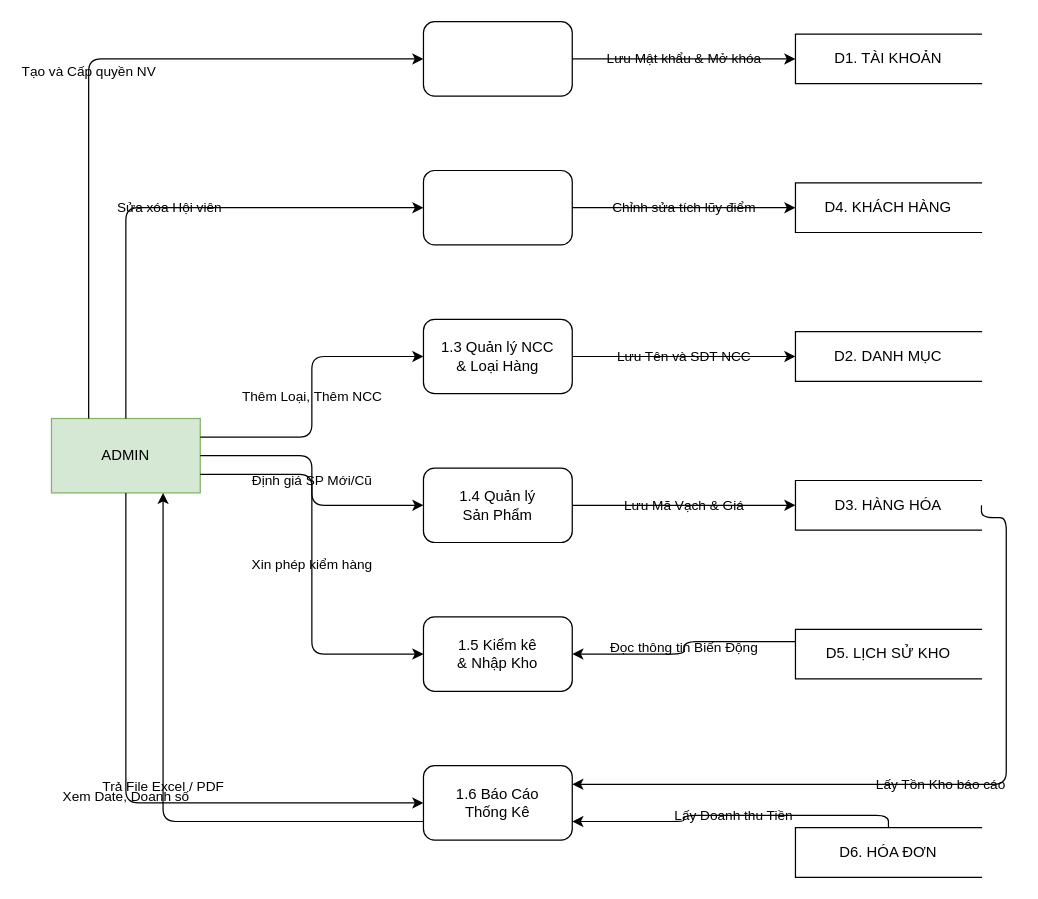
Image size: 1038x899. Some labels were removed from this diagram. Here are the shapes that lost their labels. From the top down, the box of each, then its label:
(422, 20, 572, 96): 1.1 Quản lý Nhân Sự
(422, 169, 572, 245): 1.2 Quản lý Khách Hàng
